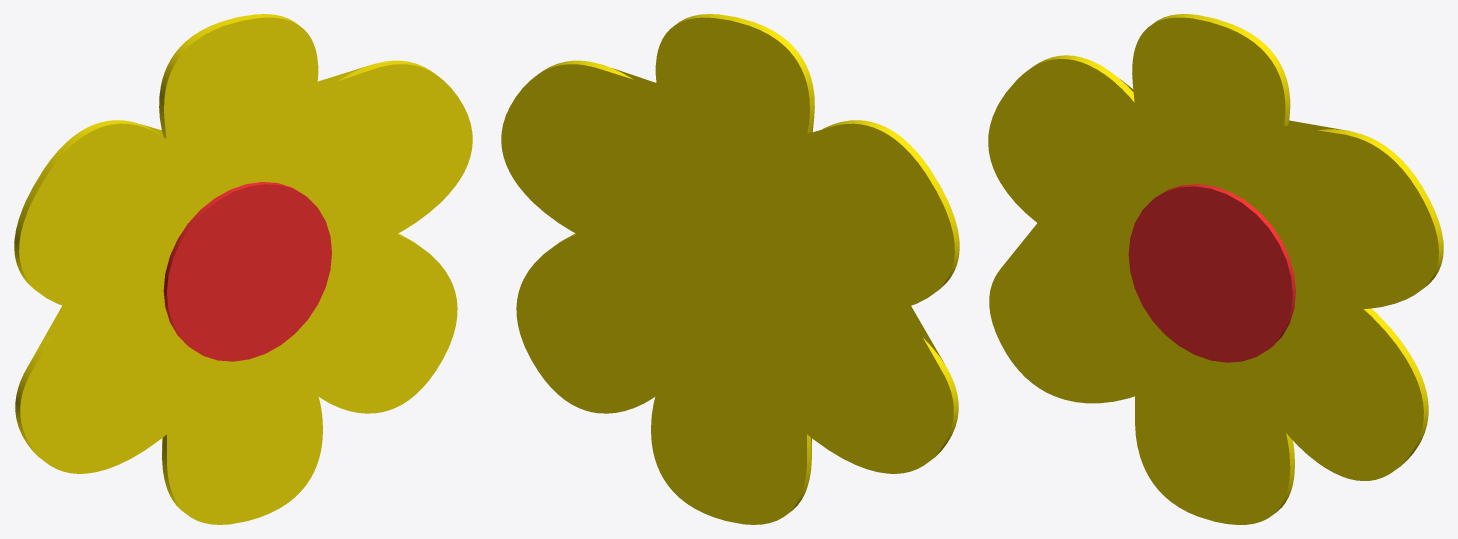
3 renders of one model, left to right at view 1: azimuth 30°, elevation 25°; view 2: azimuth 150°, elevation 25°; view 3: azimuth 330°, elevation 25°, orthographic.
Visible parts, largest first — view 1: jeltiy, krasniy; view 2: jeltiy; view 3: jeltiy, krasniy.
Part boxes in pixels (x1,y1,x2,y2): jeltiy: [14, 14, 472, 524]; krasniy: [163, 182, 331, 361]; jeltiy: [501, 14, 959, 524]; jeltiy: [988, 14, 1443, 524]; krasniy: [1128, 184, 1295, 362].
Size of the model in its own units: 39.97 by 42.23 by 1.23.
